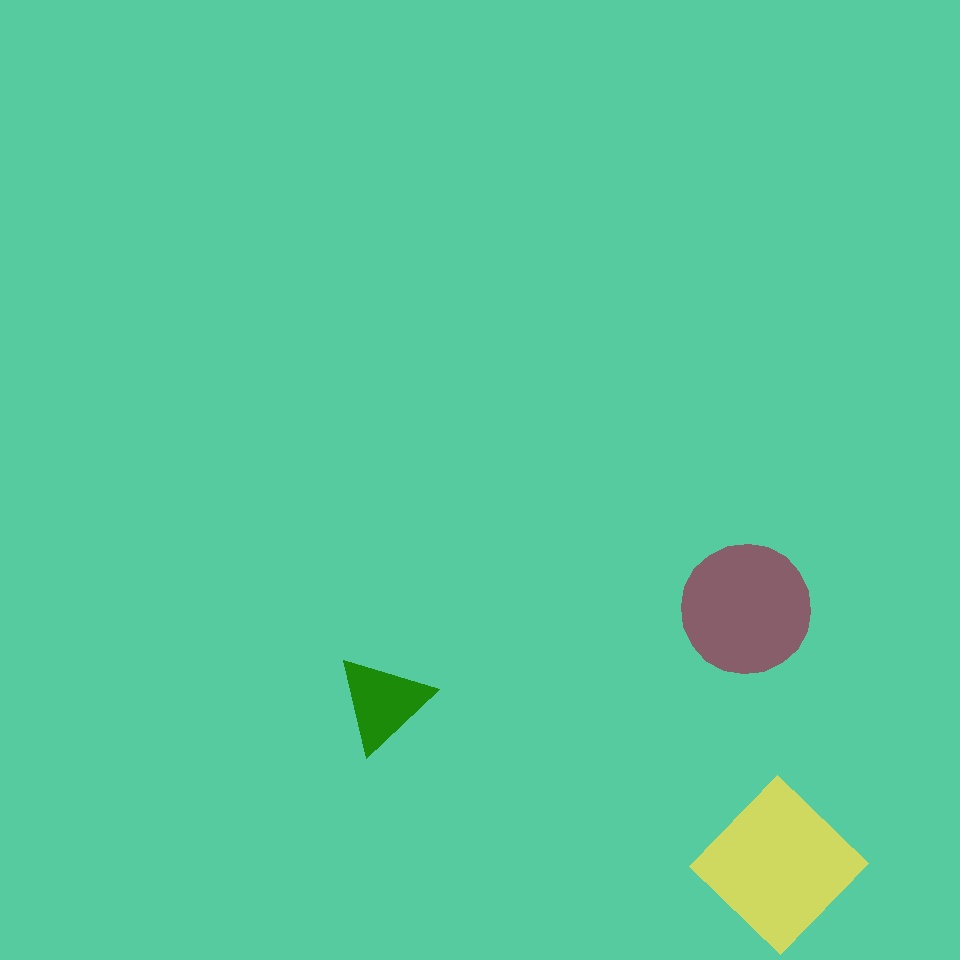circle: (289, 276, 533, 500), (335, 654, 431, 752)
square: (689, 775, 868, 954), (1, 256, 130, 385)
triangle: (283, 183, 650, 550), (132, 130, 421, 420), (240, 382, 509, 651), (682, 545, 810, 674)
